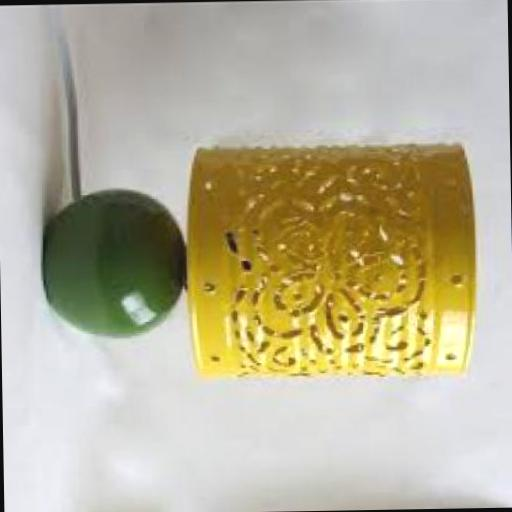metal: (187, 142, 480, 381)
